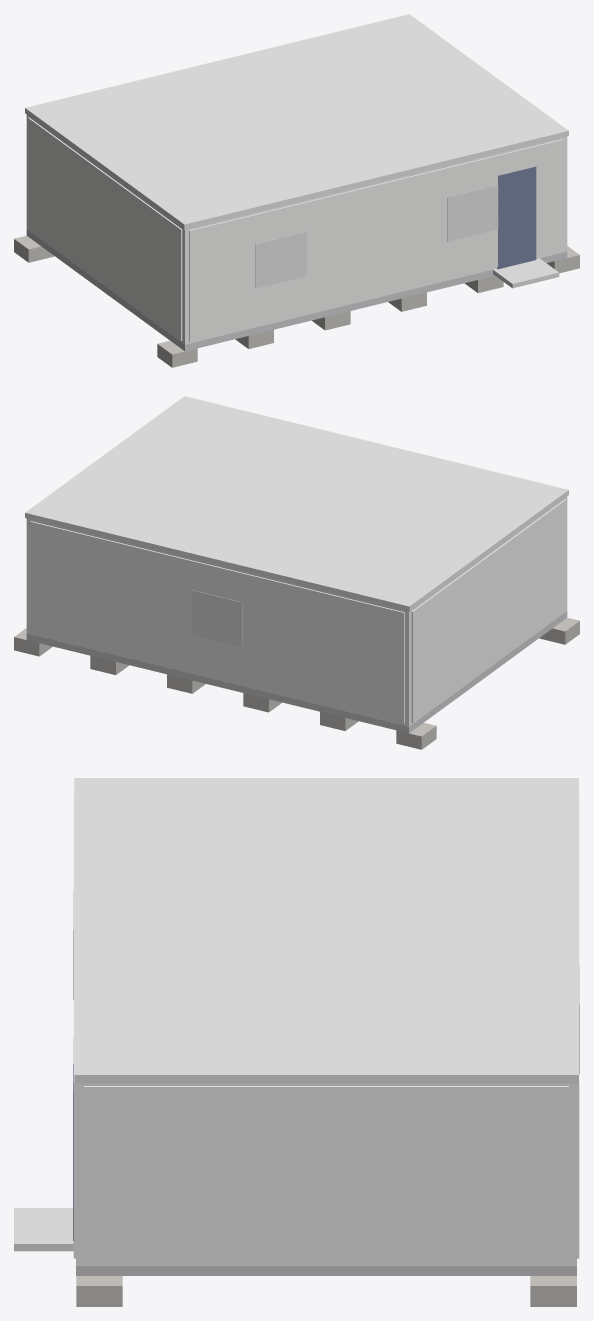
The model's file is Studio-30-Village-LOD1.glb.
3 renders of one model, top to bottom at view 1: azimuth 30°, elevation 25°; view 2: azimuth 150°, elevation 25°; view 3: azimuth 270°, elevation 25°, orthographic. The views are drawn at different scales.
Parts seen in each view (by area): view 1: RoofMain, ExteriorPanelsStandard, WindowsStandard, ExteriorShell, FoundationBlocks, EntryDoor, BaseFrame, AccessibilityVillage; view 2: RoofMain, ExteriorPanelsStandard, BaseFrame, FoundationBlocks, ExteriorShell, WindowsStandard; view 3: RoofMain, ExteriorPanelsStandard, ExteriorShell, BaseFrame, FoundationBlocks, AccessibilityVillage.
Part boxes in pixels (left/top/right/bottom): RoofMain: left=25, top=14, right=568, bottom=229; ExteriorPanelsStandard: left=28, top=117, right=563, bottom=341; WindowsStandard: left=255, top=184, right=498, bottom=288; ExteriorShell: left=26, top=115, right=567, bottom=344; FoundationBlocks: left=14, top=235, right=579, bottom=367; EntryDoor: left=497, top=166, right=536, bottom=269; BaseFrame: left=26, top=229, right=567, bottom=351; AccessibilityVillage: left=493, top=258, right=559, bottom=288; RoofMain: left=25, top=396, right=568, bottom=611; ExteriorPanelsStandard: left=30, top=499, right=565, bottom=723; BaseFrame: left=26, top=611, right=567, bottom=733; FoundationBlocks: left=14, top=617, right=579, bottom=749; ExteriorShell: left=26, top=497, right=567, bottom=726; WindowsStandard: left=191, top=590, right=242, bottom=646; RoofMain: left=74, top=778, right=578, bottom=1083; ExteriorPanelsStandard: left=73, top=794, right=579, bottom=1262; ExteriorShell: left=76, top=1083, right=576, bottom=1265; BaseFrame: left=76, top=1265, right=576, bottom=1275; FoundationBlocks: left=76, top=1276, right=576, bottom=1306; AccessibilityVillage: left=14, top=1208, right=73, bottom=1251.
Bounding box in the file's own units: 9.6 × 3.17 × 7.29.
